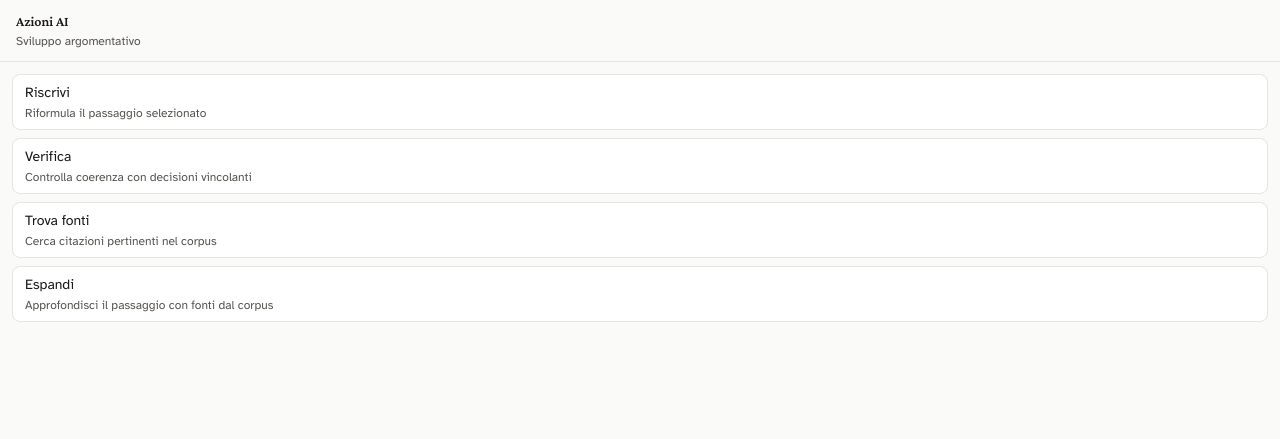
Test: WritingAiPanel › shows API error instead of mock stream when LLM unavailable
Click the button "Verifica Controlla coerenza con decisioni vincolanti" at (48, 156), box [12,138,1268,194]
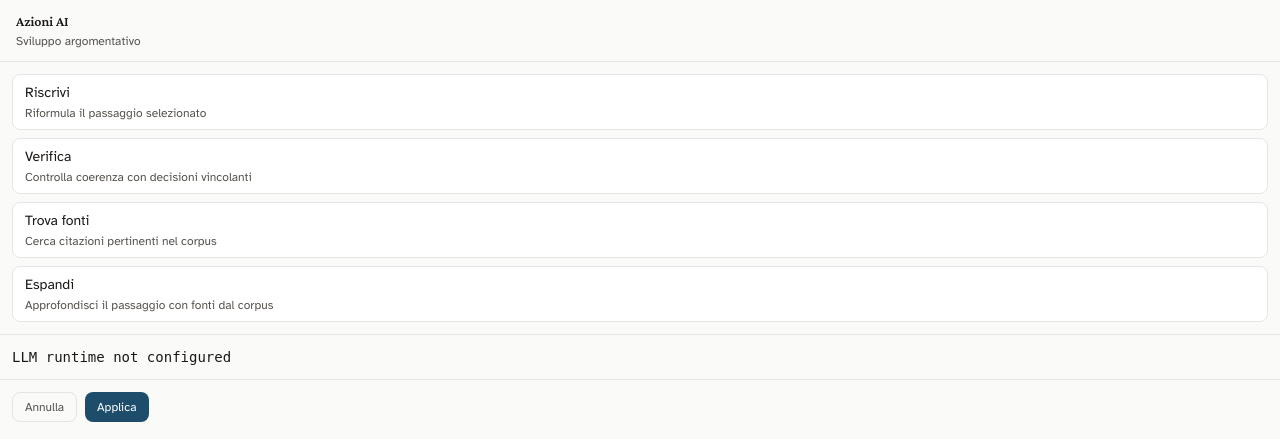
Check: the text with test id "ai-stream-output" reads "LLM runtime not configured", box [12,349,231,365]
